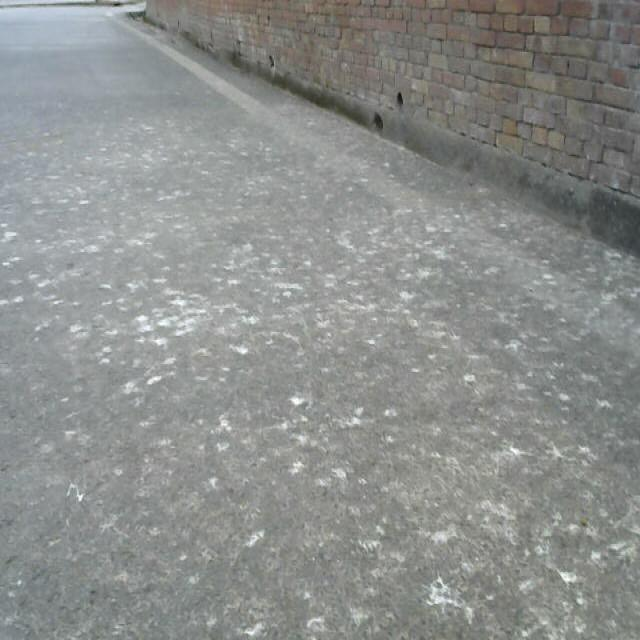Road: (4, 0, 588, 640)
